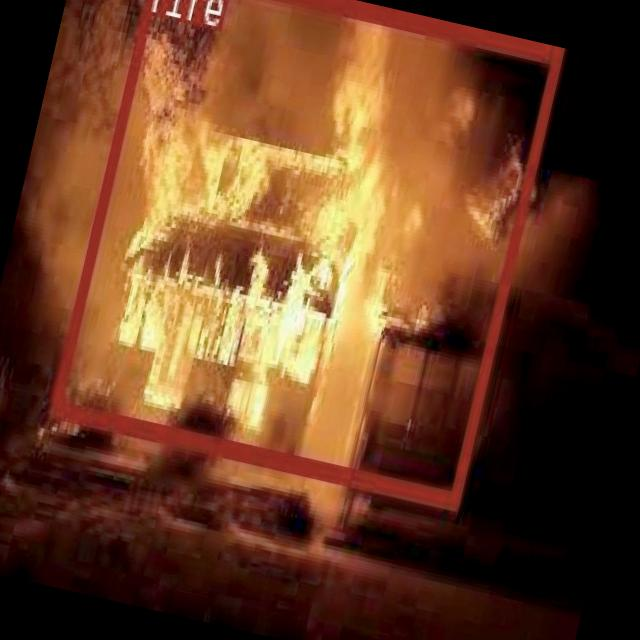fire: (48, 0, 561, 507)
